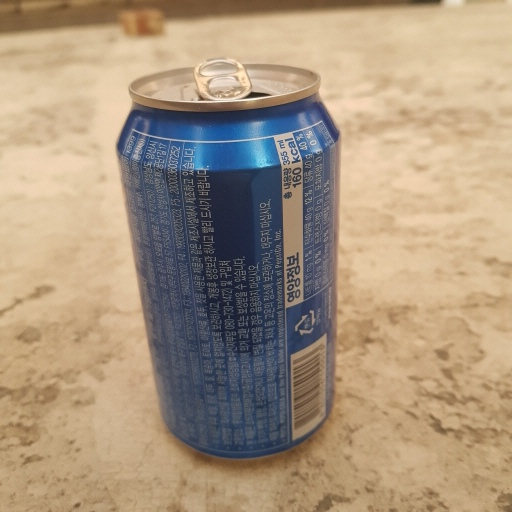Metal_0: (118, 56, 345, 458)
